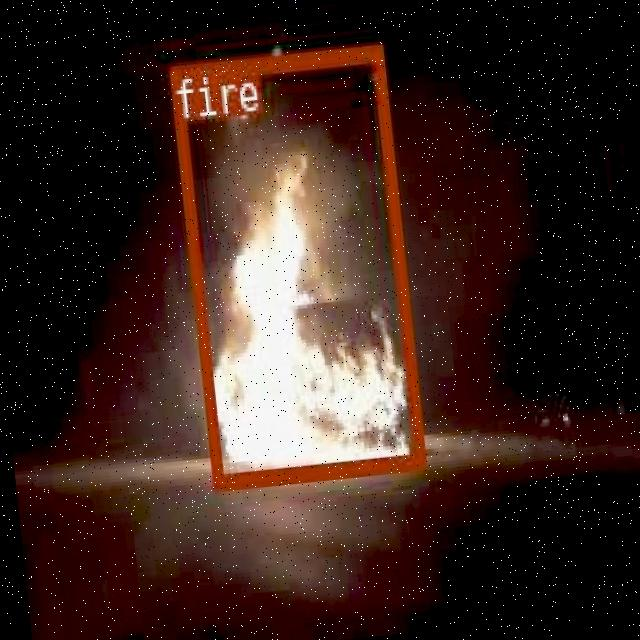fire: (167, 44, 424, 486)
